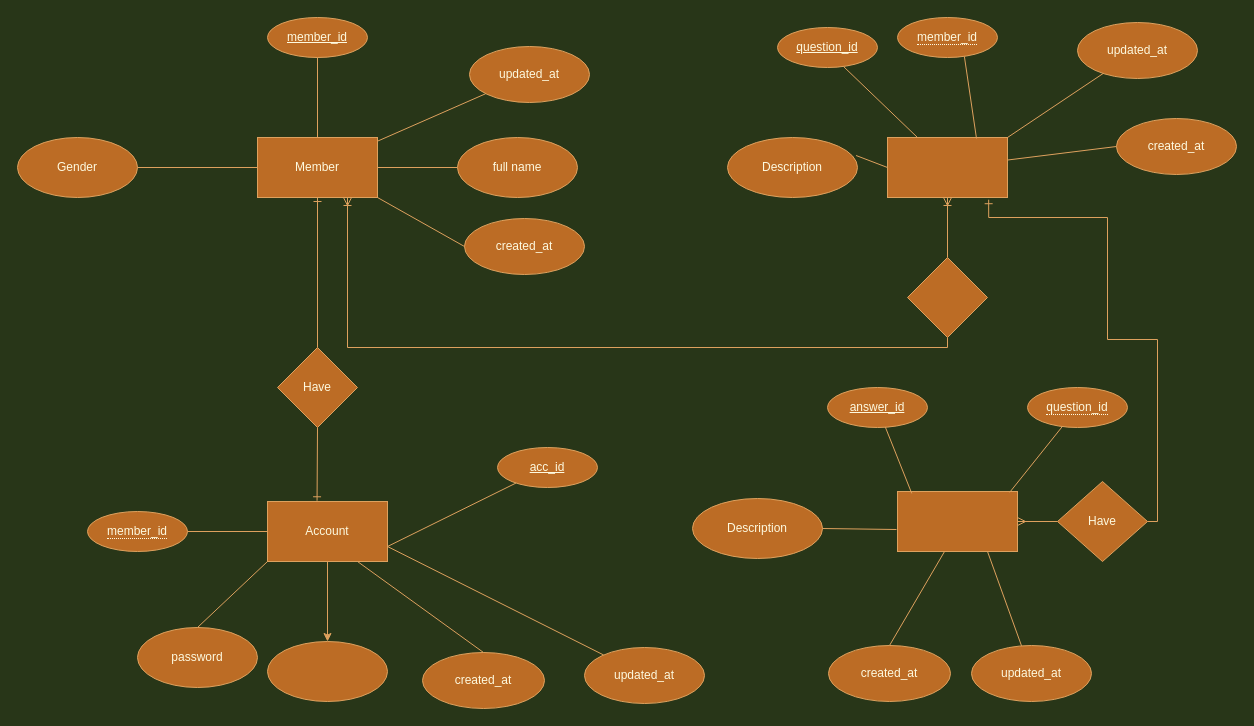
Some shapes in this 1254 by 726 pixel diagram are drawn without their labels. Each missing label, with the centre of its shape:
"Answer" belongs at [957,521].
"Post" belongs at [947,297].
"Question" belongs at [947,167].
"username" belongs at [327,671].
